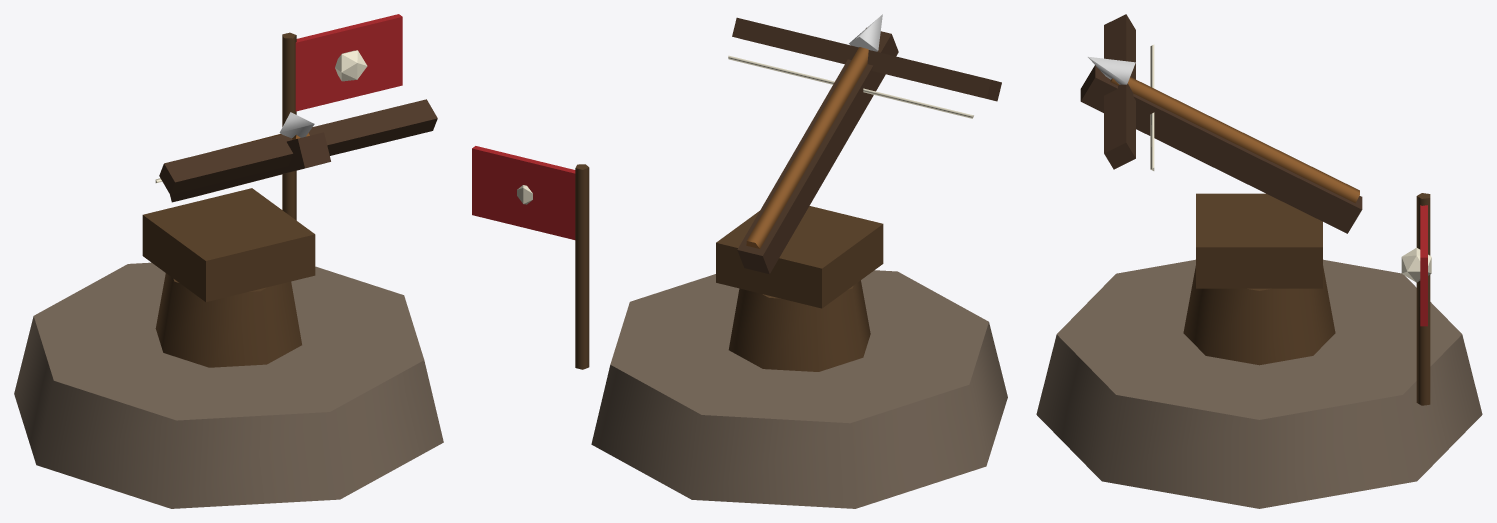
File: goblin-level1.glb
3 views of the same model, side by side, from view 1: azimuth 30°, elevation 25°; view 2: azimuth 150°, elevation 25°; view 3: azimuth 270°, elevation 25° (orthographic). The views are drawn at different scales.
Visible parts, largest first — view 1: object 1, turret, object 2, object 5, object 4, object 6; view 2: object 1, turret, object 2, object 5, object 4; view 3: object 1, turret, object 2, object 4, object 5, object 6.
Part boxes in pixels (bbox=[...]): object 1: bbox=[14, 262, 443, 508]; turret: bbox=[142, 99, 437, 301]; object 2: bbox=[155, 273, 301, 367]; object 5: bbox=[295, 14, 402, 111]; object 4: bbox=[282, 32, 296, 220]; object 6: bbox=[335, 50, 367, 81]; object 1: bbox=[591, 270, 1007, 508]; turret: bbox=[716, 14, 1001, 308]; object 2: bbox=[728, 280, 870, 371]; object 5: bbox=[472, 146, 575, 239]; object 4: bbox=[575, 164, 589, 369]; object 1: bbox=[1036, 259, 1482, 508]; turret: bbox=[1080, 14, 1362, 288]; object 2: bbox=[1183, 266, 1335, 365]; object 4: bbox=[1416, 193, 1430, 405]; object 5: bbox=[1420, 205, 1427, 326]; object 6: bbox=[1401, 247, 1431, 282].
Size of the model in its own units: 2.04 by 1.56 by 1.76.
